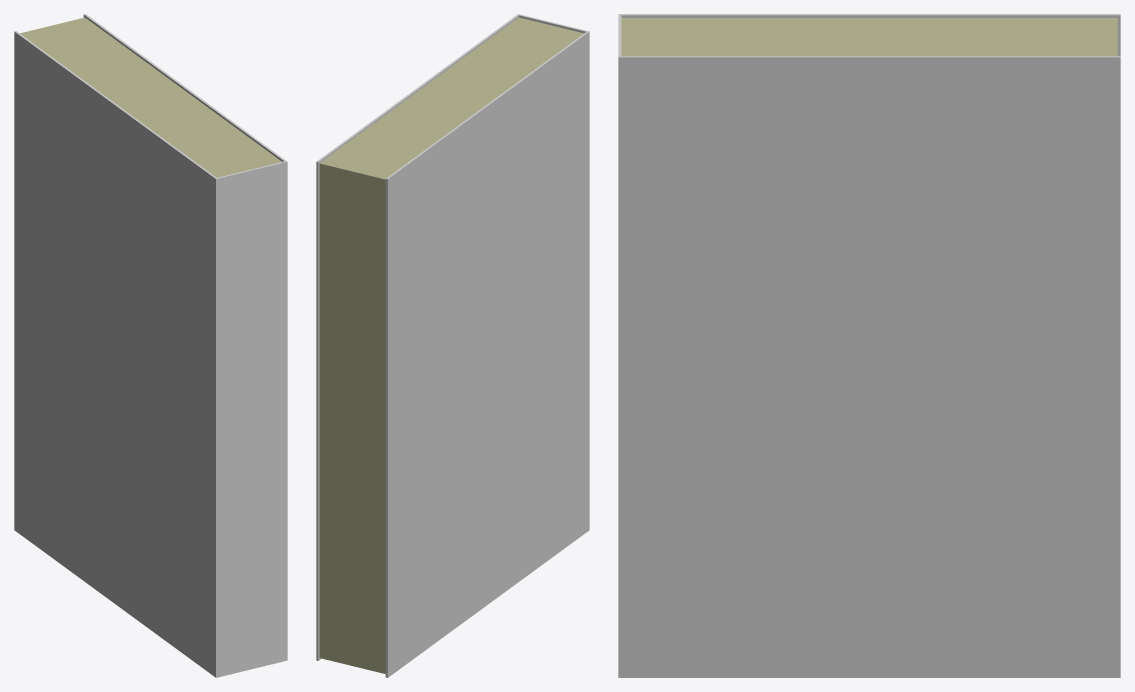
File: buku.fbx
The picture shows the model from 3 angles, left to right: view 1: azimuth 30°, elevation 25°; view 2: azimuth 150°, elevation 25°; view 3: azimuth 270°, elevation 25°; orthographic projection. The views are drawn at different scales.
Visible parts, largest first — view 1: Book0; view 2: Book0; view 3: Book0.
Boxes of the visible parts, box(x1,y1,x2,y2) form: Book0: box(14, 14, 287, 677); Book0: box(316, 14, 589, 677); Book0: box(618, 14, 1120, 677).
Size of the model in its own units: 4.5 by 30 by 22.
